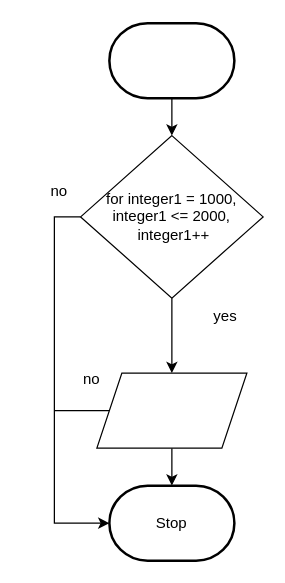
Some shapes in this 285 by 583 pixel diagram are drawn without their labels. Here are the shapes that lost their labels. From the top down, the centre of each, then its label:
(171,60): Start
(171,410): print integer1
